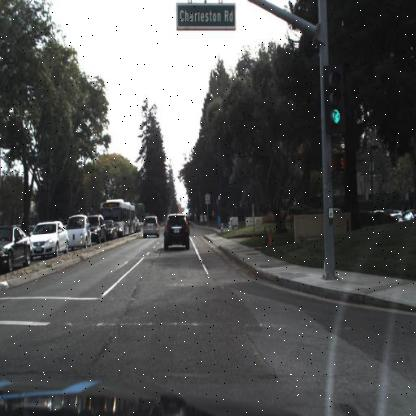car: (29, 220, 69, 259), (1, 224, 30, 274), (162, 211, 192, 253), (67, 212, 91, 248), (141, 213, 162, 240), (90, 211, 106, 246), (89, 214, 103, 240), (105, 219, 116, 237)
trafficLight-Green: (324, 67, 346, 135)
truck: (109, 198, 136, 234)
